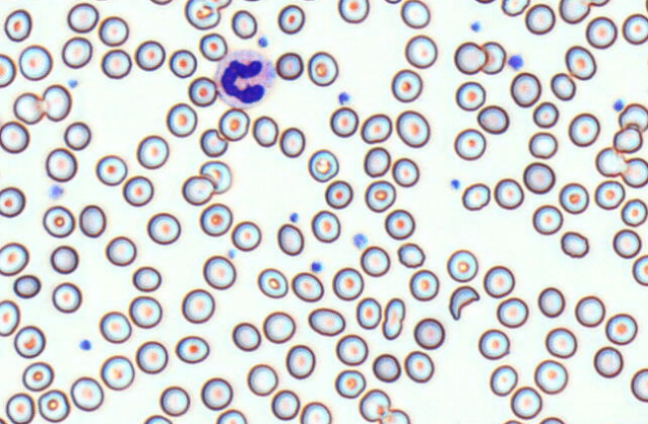GRAN: (214, 48, 274, 109)
PLT: (508, 54, 527, 73), (353, 233, 371, 249), (256, 34, 272, 50), (48, 185, 65, 200), (336, 92, 353, 107), (611, 98, 625, 113), (311, 259, 326, 272), (450, 178, 463, 192), (79, 339, 92, 351), (287, 210, 299, 223), (68, 77, 81, 88), (470, 21, 481, 34)
RBC: (395, 109, 430, 147), (18, 44, 52, 80), (181, 288, 215, 323), (100, 355, 134, 390), (534, 359, 568, 394), (202, 255, 236, 289), (136, 134, 169, 169), (70, 376, 103, 411), (199, 202, 232, 236), (128, 295, 162, 328), (135, 340, 168, 374), (404, 34, 437, 68), (45, 147, 77, 182), (564, 45, 596, 80), (568, 112, 600, 147), (510, 71, 541, 107), (41, 84, 71, 121), (200, 377, 233, 410), (522, 161, 555, 194), (42, 205, 75, 238), (453, 41, 486, 74), (37, 389, 70, 422), (335, 333, 368, 366), (358, 388, 390, 422), (510, 385, 542, 419), (146, 212, 180, 244), (332, 266, 364, 300), (166, 102, 197, 137), (307, 51, 338, 86), (308, 307, 345, 336), (199, 160, 231, 193), (246, 363, 278, 396), (99, 310, 131, 343), (13, 325, 45, 358), (262, 311, 295, 343), (453, 128, 486, 160), (585, 16, 617, 49), (446, 249, 478, 282), (218, 107, 249, 141), (391, 68, 422, 102), (285, 344, 315, 379), (95, 154, 127, 186), (364, 180, 396, 212), (605, 313, 637, 345), (181, 174, 214, 205), (403, 350, 434, 383), (308, 149, 339, 182), (483, 265, 514, 298), (185, 0, 220, 29), (13, 92, 44, 124), (61, 36, 92, 68), (496, 297, 528, 328), (545, 327, 577, 358), (493, 177, 524, 209), (413, 317, 444, 349), (291, 271, 323, 302), (408, 269, 439, 301), (359, 245, 390, 277), (574, 295, 605, 327), (0, 241, 28, 276), (595, 146, 626, 177), (122, 175, 153, 206), (105, 235, 136, 266), (159, 385, 190, 416), (594, 179, 625, 210), (134, 40, 165, 71), (67, 2, 98, 33), (524, 3, 555, 34), (532, 204, 563, 235), (478, 328, 509, 359), (257, 267, 288, 298), (384, 208, 415, 239), (559, 182, 589, 214), (593, 346, 623, 378), (477, 104, 509, 134), (360, 113, 392, 143), (0, 120, 29, 153), (311, 209, 340, 242), (4, 8, 32, 42), (175, 335, 209, 363), (5, 392, 35, 423), (270, 389, 300, 420), (100, 49, 131, 79), (22, 361, 53, 391), (98, 15, 128, 46), (231, 220, 261, 251), (334, 369, 366, 398), (489, 364, 518, 396), (78, 204, 106, 237), (231, 321, 261, 351), (455, 81, 485, 111), (188, 76, 217, 107), (329, 106, 358, 137), (52, 282, 81, 313), (276, 223, 304, 255), (324, 179, 353, 209), (612, 228, 641, 258), (612, 125, 643, 153), (363, 146, 391, 177), (537, 286, 565, 317), (480, 41, 506, 74), (199, 128, 228, 157), (372, 353, 401, 382), (50, 244, 78, 274), (277, 4, 305, 34), (400, 0, 430, 28), (391, 157, 419, 187), (620, 157, 647, 188), (252, 115, 278, 147), (355, 297, 381, 329), (199, 32, 227, 61), (275, 51, 303, 80), (63, 121, 91, 150), (169, 49, 197, 78), (528, 131, 557, 159), (560, 230, 589, 258), (461, 182, 490, 210), (279, 126, 305, 157), (622, 13, 647, 45), (132, 265, 161, 292), (231, 9, 257, 39), (0, 186, 25, 217), (620, 198, 647, 226), (559, 0, 590, 24), (0, 299, 20, 336), (337, 0, 369, 23), (532, 101, 559, 128), (397, 242, 425, 268), (550, 72, 576, 100), (300, 401, 331, 423), (13, 274, 40, 298), (630, 367, 647, 402), (0, 53, 16, 87), (632, 254, 647, 286), (215, 408, 247, 423), (380, 408, 410, 423), (501, 0, 529, 16), (143, 414, 172, 423), (206, 0, 231, 10), (538, 416, 565, 423), (589, 0, 610, 6), (149, 0, 172, 5), (502, 419, 523, 423), (474, 0, 495, 4), (383, 0, 401, 4), (241, 0, 263, 2), (645, 0, 648, 13), (92, 0, 117, 1)
Schistocyte: (450, 285, 479, 320), (383, 298, 404, 340), (619, 103, 648, 132)
